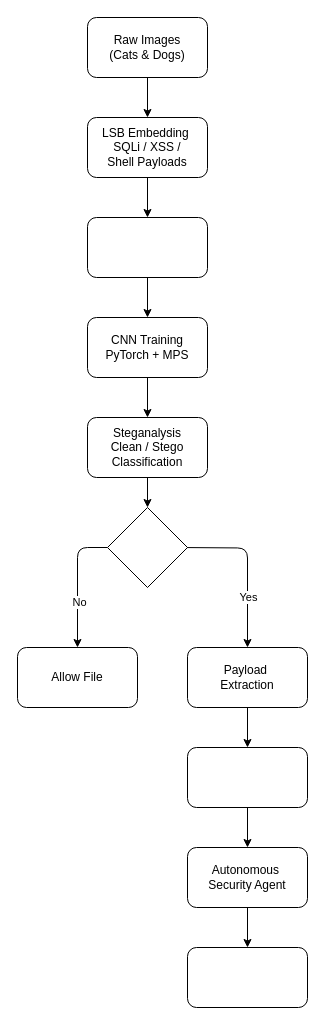
Image size: 325x1025. Some labels were removed from this diagram. The centre of each missing label's shape, as x and y in pixels:
"Allow / Quarantine" belongs at [247,977].
"Dataset 1000 Clean Images 1000 Stego Images 2000 Total Images" belongs at [147,247].
"Payload Classification SQLi / XSS / Shell Commands" belongs at [247,777].
"Stego?" belongs at [147,547].
